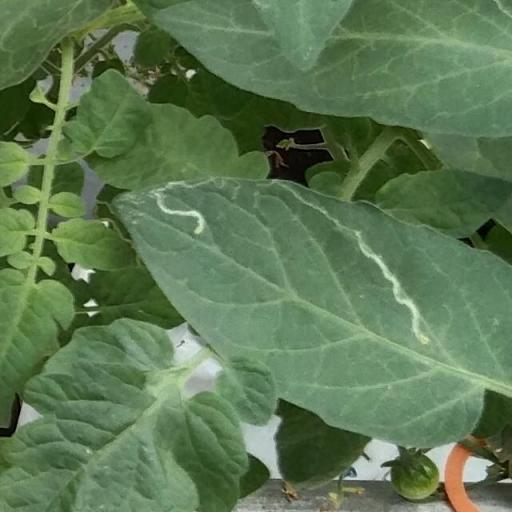Healthy: (148, 0, 511, 140), (0, 318, 252, 512), (63, 64, 149, 159), (212, 354, 278, 430)
Leaf_Miner: (108, 174, 512, 448)
